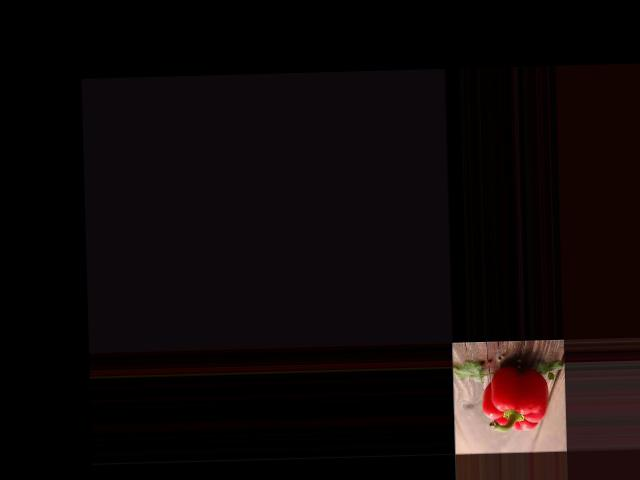bell_pepper: (477, 363, 553, 437)
